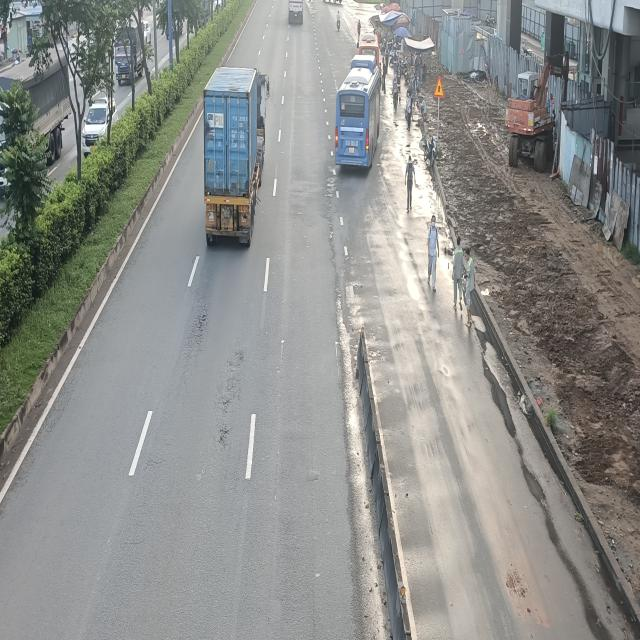coach: (336, 63, 382, 174)
container: (200, 66, 266, 249)
